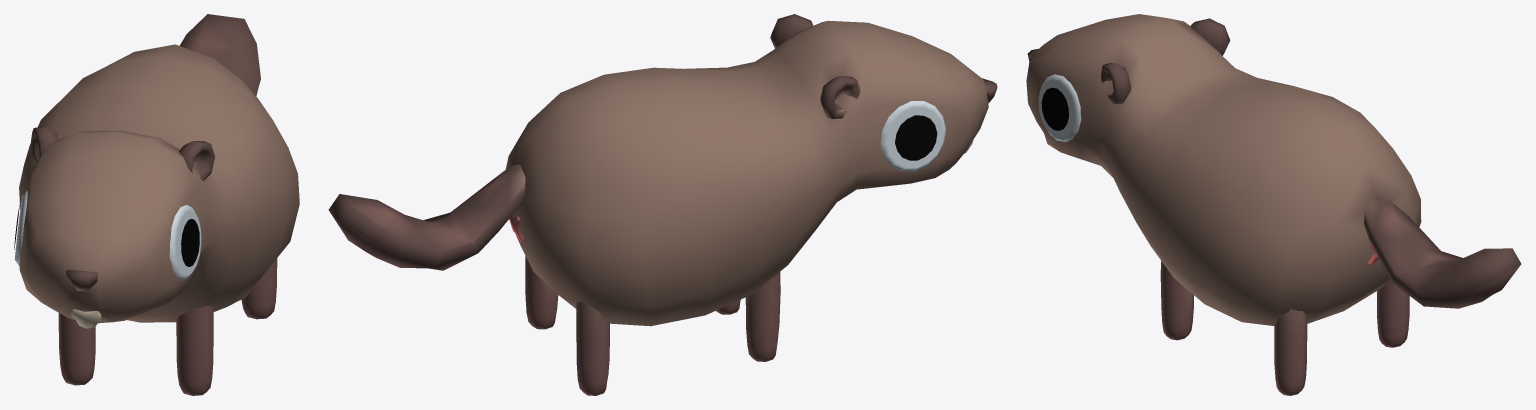
The model's file is Beaver.glb.
The picture shows the model from 3 angles, left to right: view 1: azimuth 30°, elevation 25°; view 2: azimuth 150°, elevation 25°; view 3: azimuth 270°, elevation 25°; orthographic projection. The views are drawn at different scales.
Parts seen in each view (by area): view 1: 12; view 2: 12; view 3: 12.
Boxes of the visible parts, x1,y1,x2,y2 form: 12: (14, 14, 299, 395); 12: (328, 14, 997, 395); 12: (1026, 14, 1521, 395).
Size of the model in its own units: 0.8539 by 0.5556 by 0.9272.
